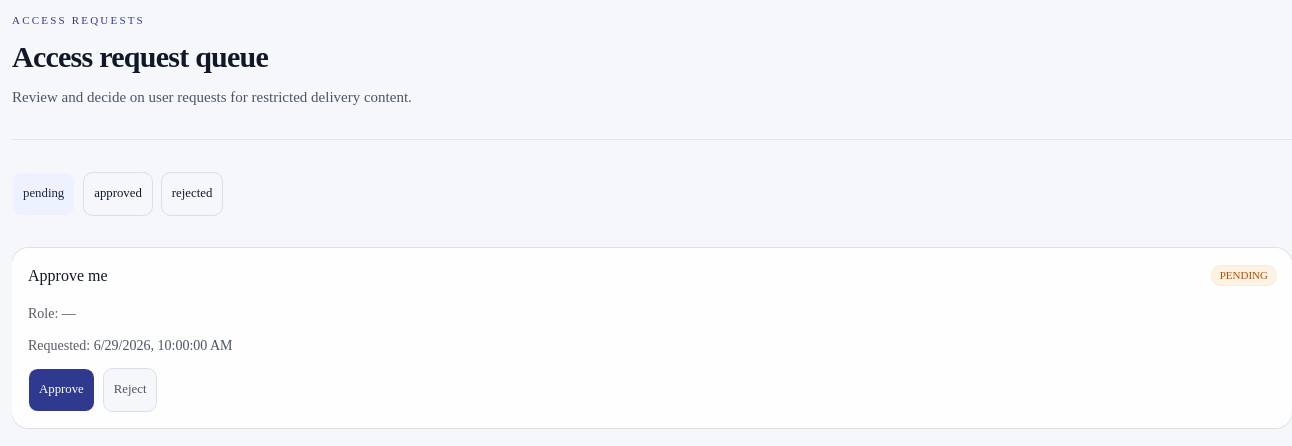
AccessRequestQueue › removes a request after approving
This screenshot has width=1292, height=446.
Expected: the text "Approve me" is shown, [28,264,108,288]
Click the button "Approve".
click(61, 390)  # box [28,368,95,412]
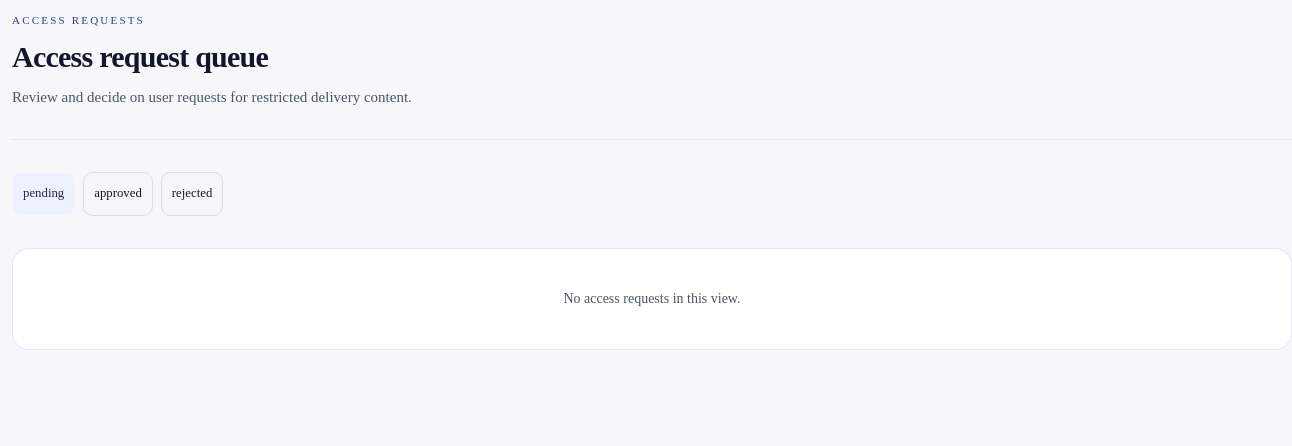
Expected: the text "Approve me" is gone
